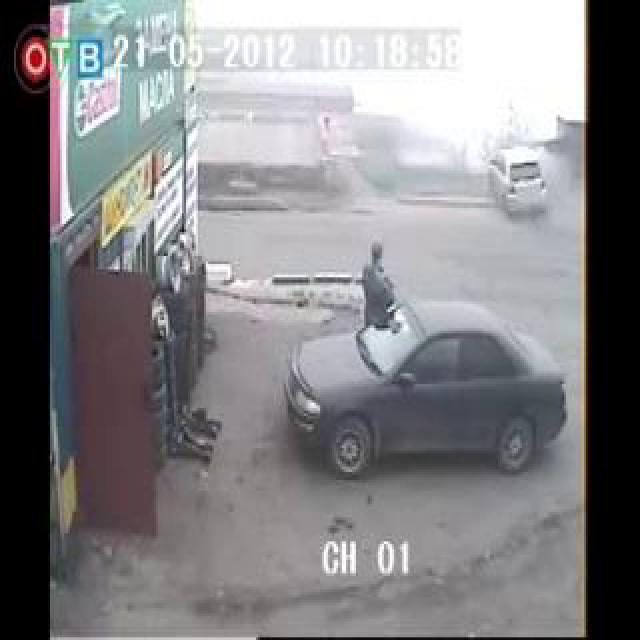road accidents: (112, 0, 593, 325)
